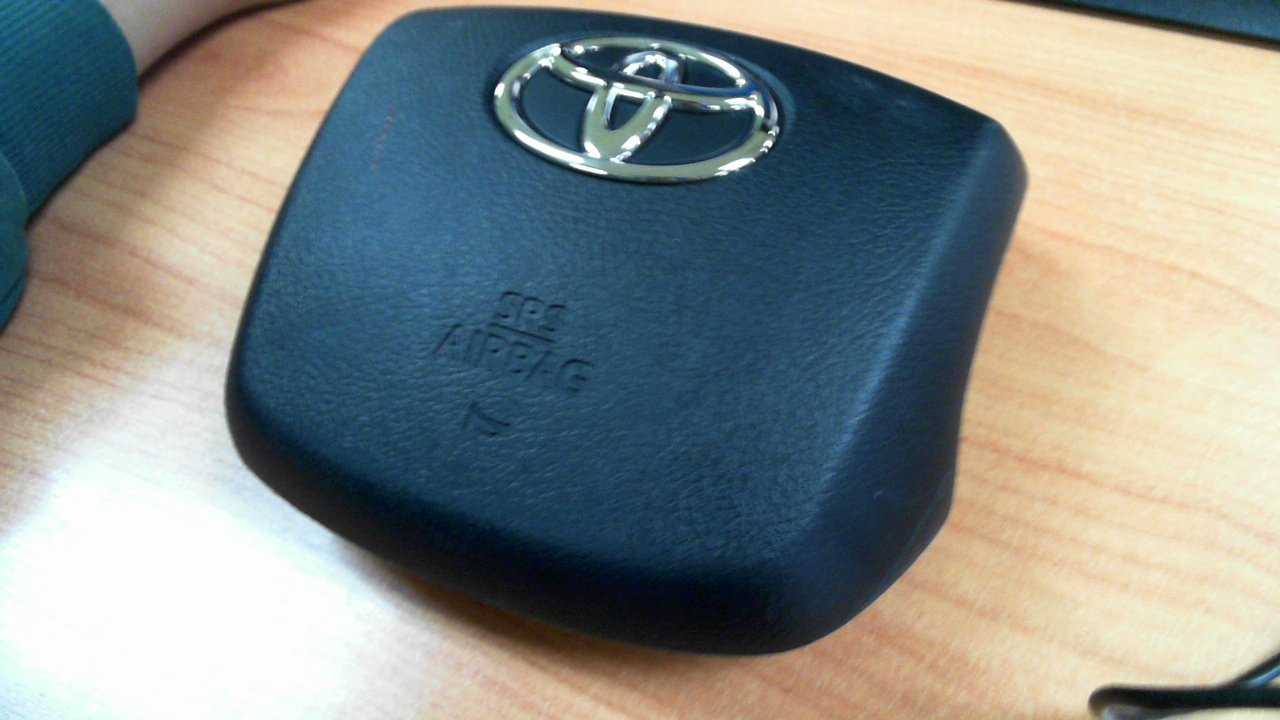Airbag: (229, 12, 1026, 657)
Toyota: (493, 37, 780, 182)
